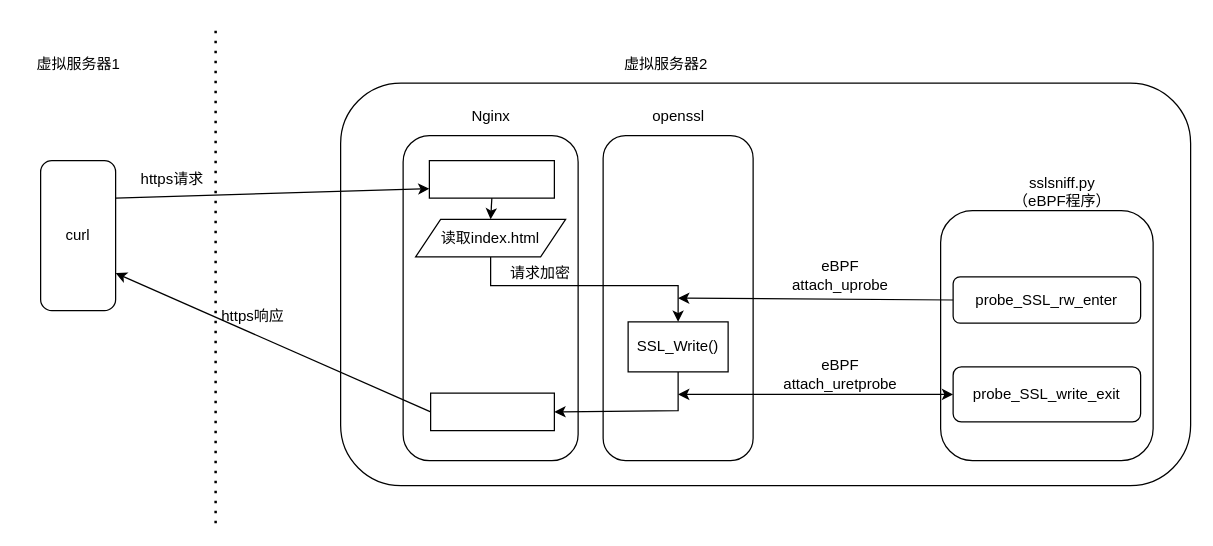
Some shapes in this 1213 by 546 pixel diagram are drawn without their labels. Each missing label, with the box of its shape:
location /: (428, 159, 554, 198)
封装response: (429, 392, 554, 431)
